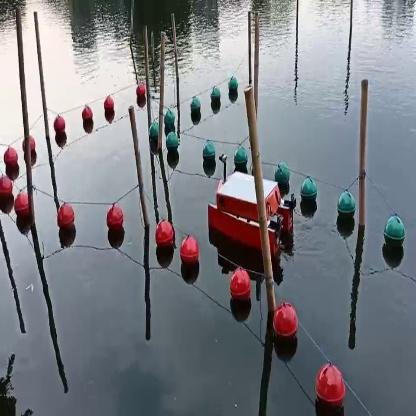green_buoy: (335, 188, 358, 228), (384, 211, 404, 256), (300, 174, 318, 212), (200, 140, 218, 174), (232, 142, 252, 172), (274, 163, 290, 188), (149, 119, 161, 145), (209, 88, 222, 108), (168, 130, 180, 151), (228, 78, 238, 98), (190, 99, 200, 117), (164, 111, 172, 127)
red_buoy: (316, 360, 342, 414), (273, 303, 299, 349), (226, 262, 251, 306), (180, 237, 198, 278), (104, 202, 125, 233), (56, 203, 75, 234), (156, 222, 172, 256), (5, 142, 20, 170), (0, 171, 12, 205), (17, 190, 27, 223), (55, 117, 66, 138), (136, 83, 146, 104), (82, 106, 92, 124), (105, 98, 113, 113)
